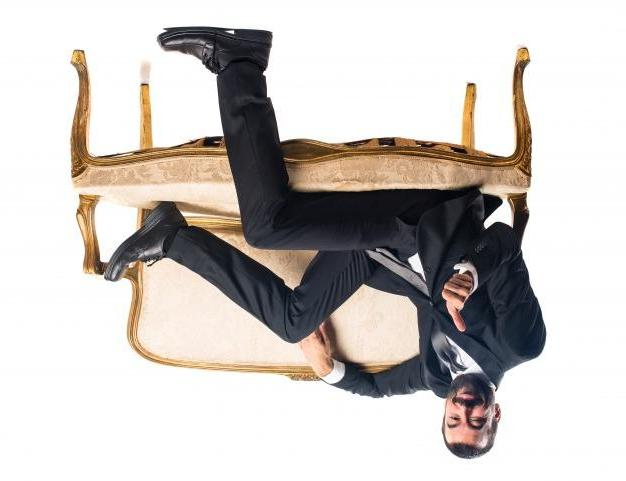thumbsdown: (442, 273, 472, 332)
